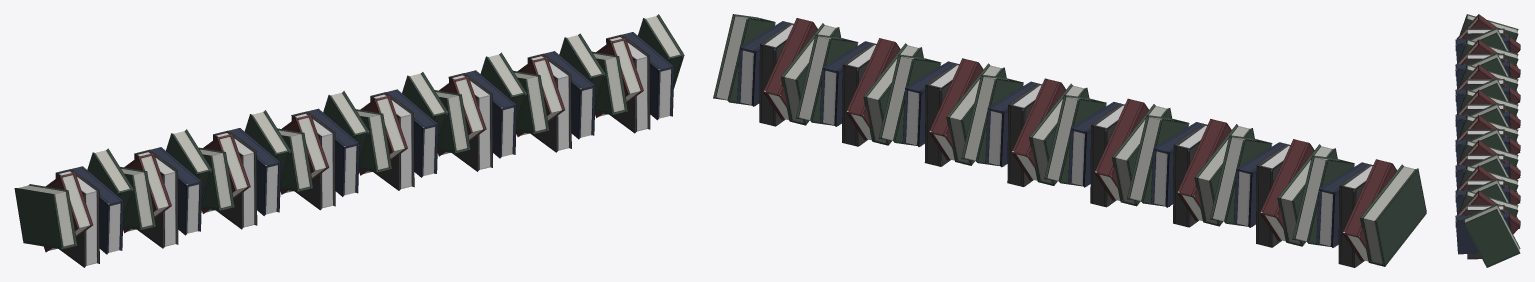
File: pilarLivros.glb
3 renders of one model, left to right at view 1: azimuth 30°, elevation 25°; view 2: azimuth 150°, elevation 25°; view 3: azimuth 270°, elevation 25°, orthographic. The views are drawn at different scales.
Parts seen in each view (by area): view 1: PilhaDeLivros-col.002, PilhaDeLivros-col.004, PilhaDeLivros-col.019, PilhaDeLivros-col.006, PilhaDeLivros-col.005, PilhaDeLivros-col.003, PilhaDeLivros-col.001, PilhaDeLivros-col.007; view 2: PilhaDeLivros-col.002, PilhaDeLivros-col.006, PilhaDeLivros-col.019, PilhaDeLivros-col.004, PilhaDeLivros-col.001, PilhaDeLivros-col.005, PilhaDeLivros-col.007, PilhaDeLivros-col.003; view 3: PilhaDeLivros-col.005, PilhaDeLivros-col.007, PilhaDeLivros-col.001, PilhaDeLivros-col.003, PilhaDeLivros-col.002, PilhaDeLivros-col.006, PilhaDeLivros-col.019, PilhaDeLivros-col.004.
Part boxes in pixels (x1=…): PilhaDeLivros-col.002: x1=14, y1=148, x2=133, y2=267; PilhaDeLivros-col.004: x1=513, y1=33, x2=605, y2=152; PilhaDeLivros-col.019: x1=199, y1=110, x2=291, y2=229; PilhaDeLivros-col.006: x1=356, y1=72, x2=448, y2=190; PilhaDeLivros-col.005: x1=592, y1=14, x2=684, y2=133; PilhaDeLivros-col.003: x1=120, y1=129, x2=212, y2=248; PilhaDeLivros-col.001: x1=277, y1=91, x2=369, y2=210; PilhaDeLivros-col.007: x1=435, y1=52, x2=526, y2=171; PilhaDeLivros-col.002: x1=1292, y1=155, x2=1426, y2=267; PilhaDeLivros-col.006: x1=961, y1=74, x2=1089, y2=186; PilhaDeLivros-col.019: x1=1127, y1=115, x2=1254, y2=227; PilhaDeLivros-col.004: x1=795, y1=34, x2=923, y2=146; PilhaDeLivros-col.001: x1=1044, y1=95, x2=1171, y2=207; PilhaDeLivros-col.005: x1=713, y1=14, x2=840, y2=126; PilhaDeLivros-col.007: x1=878, y1=54, x2=1006, y2=166; PilhaDeLivros-col.003: x1=1209, y1=135, x2=1337, y2=247; PilhaDeLivros-col.005: x1=1455, y1=190, x2=1520, y2=267; PilhaDeLivros-col.007: x1=1455, y1=140, x2=1520, y2=203; PilhaDeLivros-col.001: x1=1455, y1=89, x2=1520, y2=152; PilhaDeLivros-col.003: x1=1455, y1=39, x2=1520, y2=102; PilhaDeLivros-col.002: x1=1455, y1=14, x2=1520, y2=77; PilhaDeLivros-col.006: x1=1455, y1=115, x2=1520, y2=178; PilhaDeLivros-col.019: x1=1455, y1=64, x2=1520, y2=128; PilhaDeLivros-col.004: x1=1455, y1=165, x2=1520, y2=228.
Size of the model in its own units: 178 by 24.86 by 24.47.
5 materials, 5 textured.
